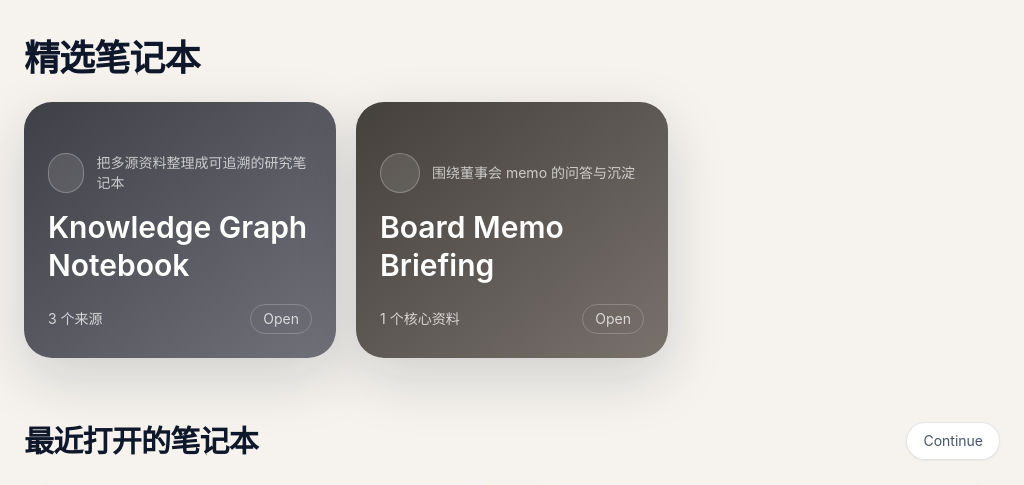
App › saves an answer into a selected nested note folder
The image size is (1024, 485).
Expected: the heading "精选笔记本" is shown, [24,36,200,80]
Click the button "Knowledge Graph Notebook".
click(180, 230)  # box [24,102,336,358]
(page scrolled)
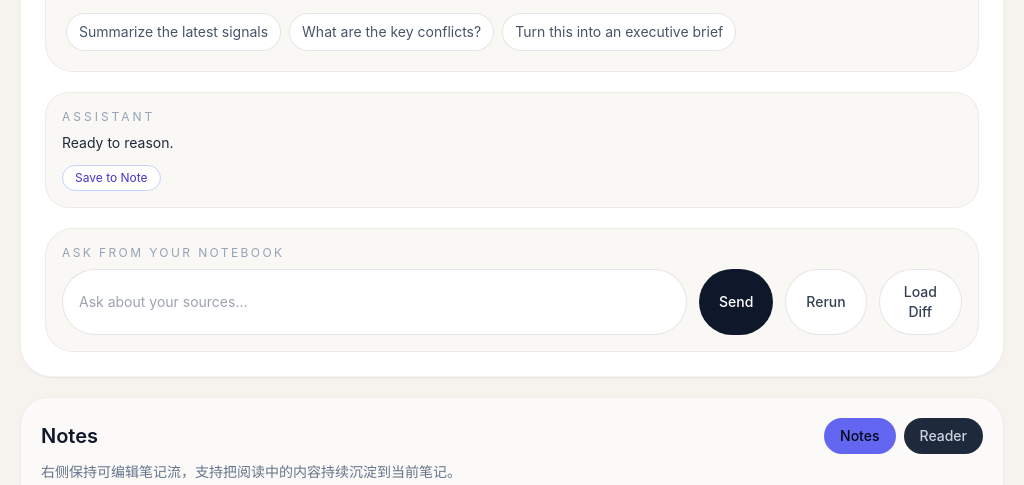
Type "Summarize the memo" into the field with placeholder "Ask about your sources...".
click(374, 302); type("Summarize the memo")  # box [62,269,687,335]
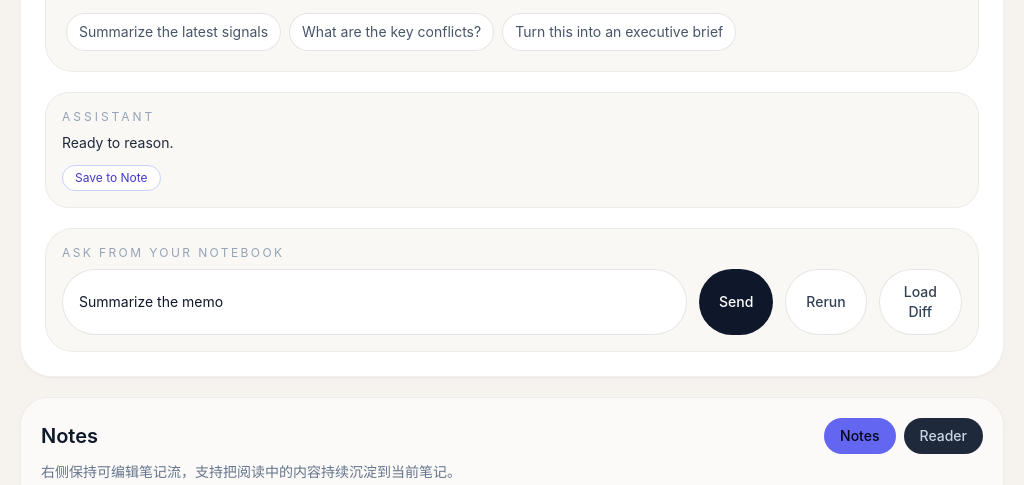
Click the button "Send".
click(736, 302)  # box [699,269,773,335]
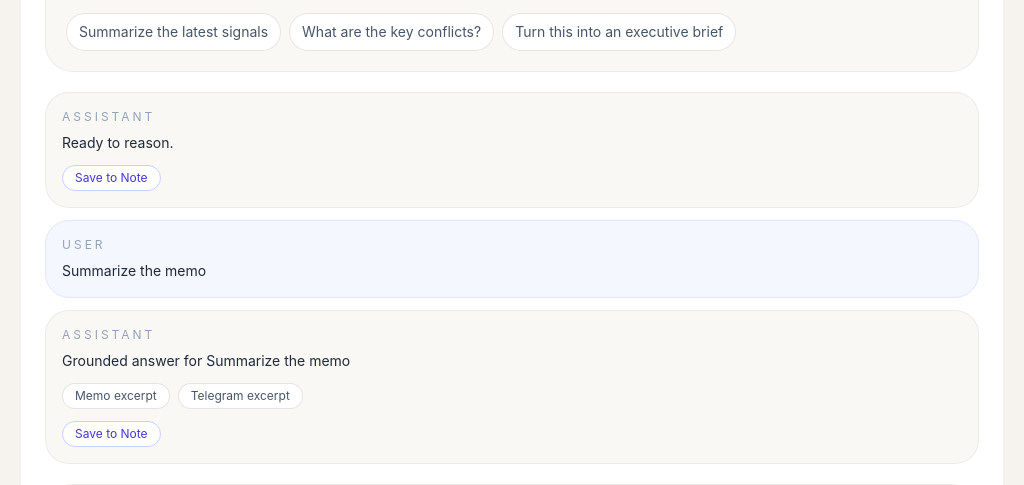
Result: the text "Grounded answer for Summarize the memo" is shown at [62,352,350,369]
Click the button "Save to Note" below "Grounded answer for Summarize the memo".
click(111, 434)  # box [62,421,161,447]
(page scrolled)
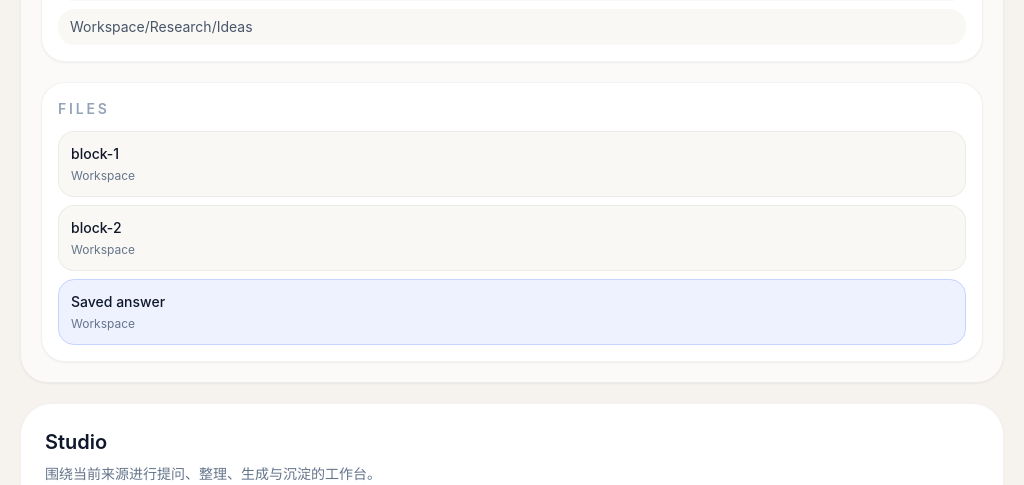
Result: the button "Workspace/Research/Ideas" is shown at [58,9,966,45]
Result: the text "Saved answer" is shown at [71,293,165,310]
